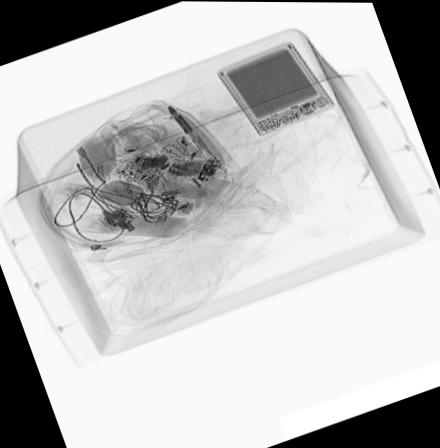Powerbank: (220, 42, 339, 136)
